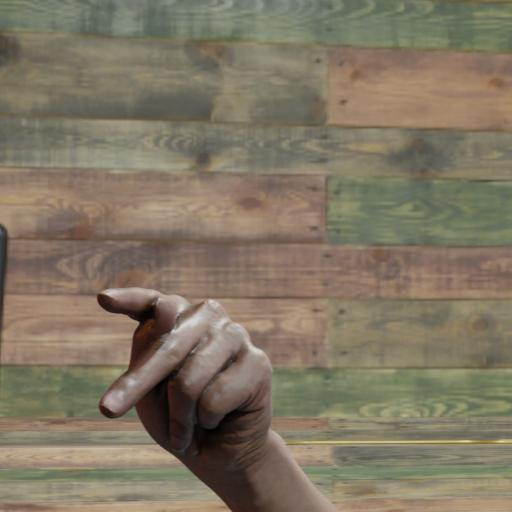P: (67, 259, 321, 512)
